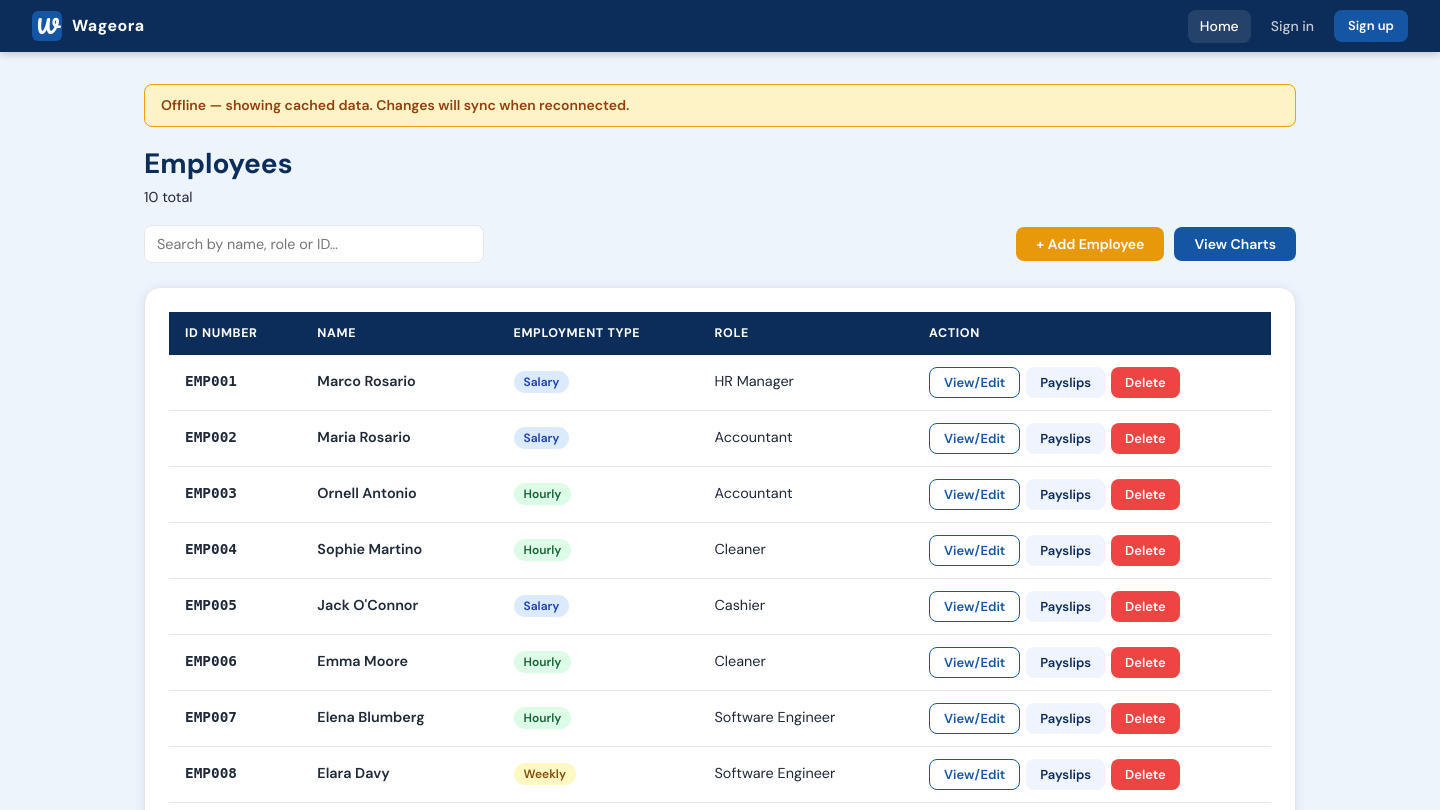
EmployeesPage › shows empty state when search has no matches
Type "zzznomatch" into the field with placeholder "Search by name, role or ID…" at (314, 244), box [144,225,484,263]
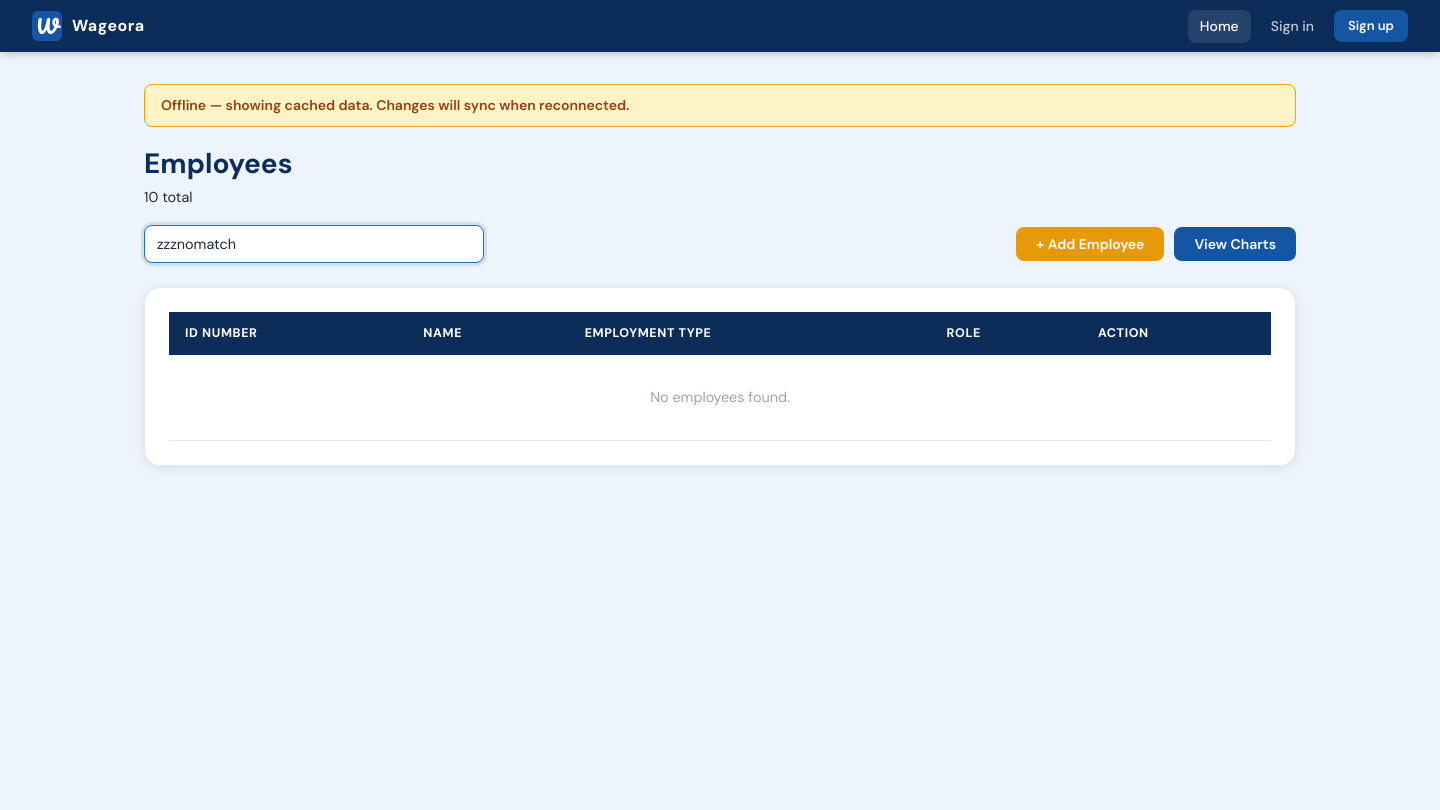
expect the text "No employees found." is shown: met, box [169,355,1271,441]
